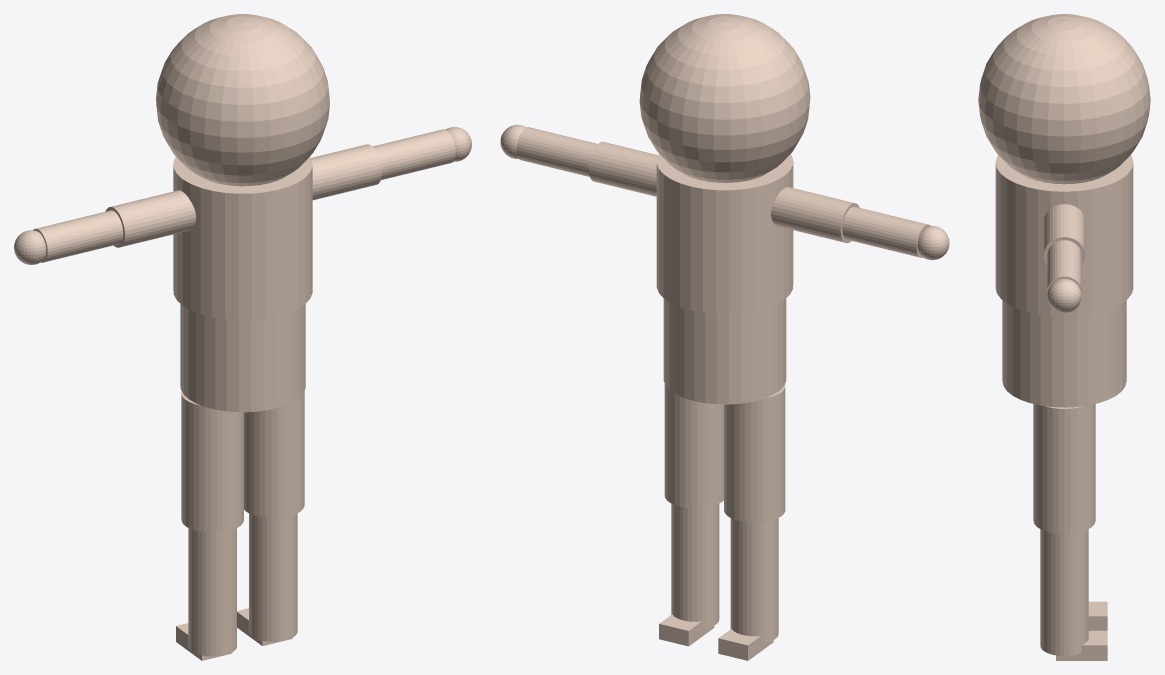
Rendered from character_base.glb.
3 views of the same model, side by side, from view 1: azimuth 30°, elevation 25°; view 2: azimuth 150°, elevation 25°; view 3: azimuth 270°, elevation 25° (orthographic).
Visible parts, largest first — view 1: character_base_body; view 2: character_base_body; view 3: character_base_body.
Part boxes in pixels (x1,y1,x2,y2): character_base_body: (14,14,471,660); character_base_body: (500,14,949,660); character_base_body: (978,14,1150,660).
Bounding box in the file's own units: 1.5 × 1.97 × 0.5.
